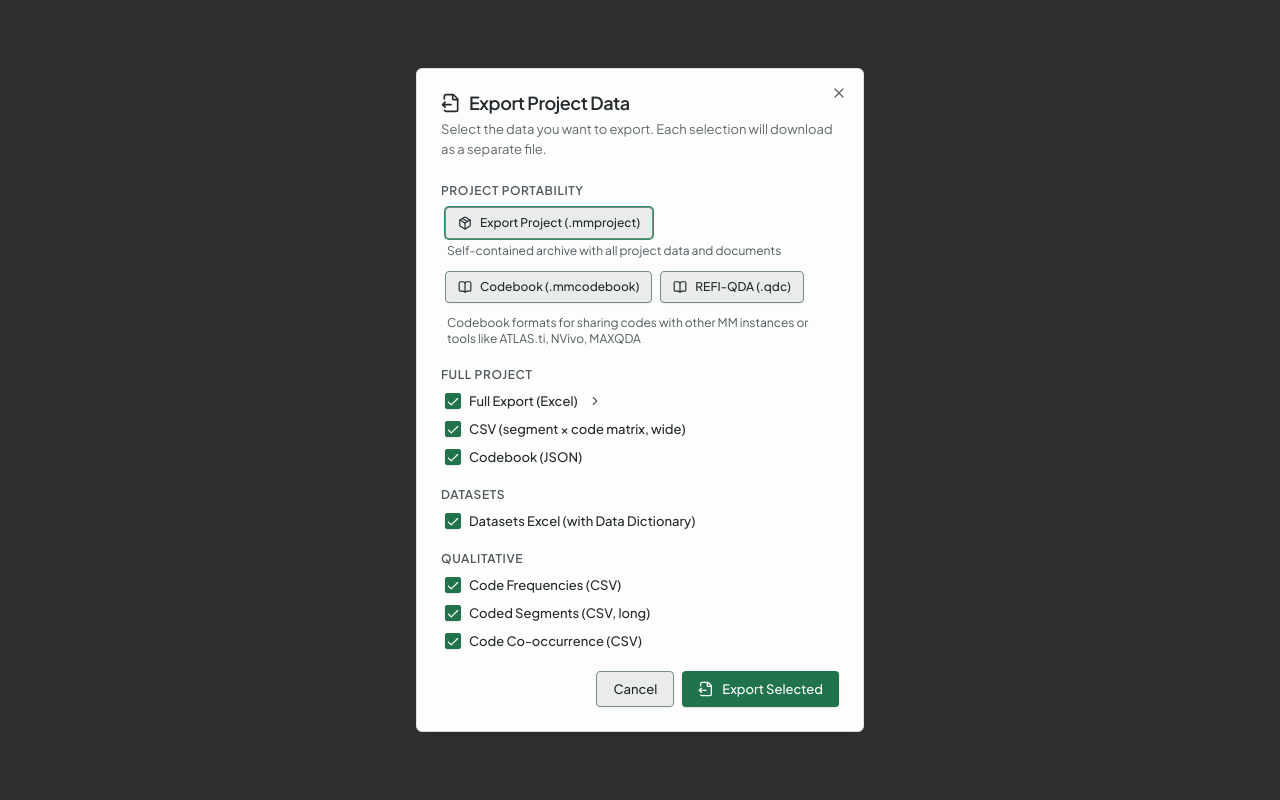
it: ExportDialog — the dismiss control during a long export › tells the researcher the download survives closing
The width and height of the screenshot is (1280, 800).
Click the button "Export Selected": click(761, 689) [682, 671, 839, 707]
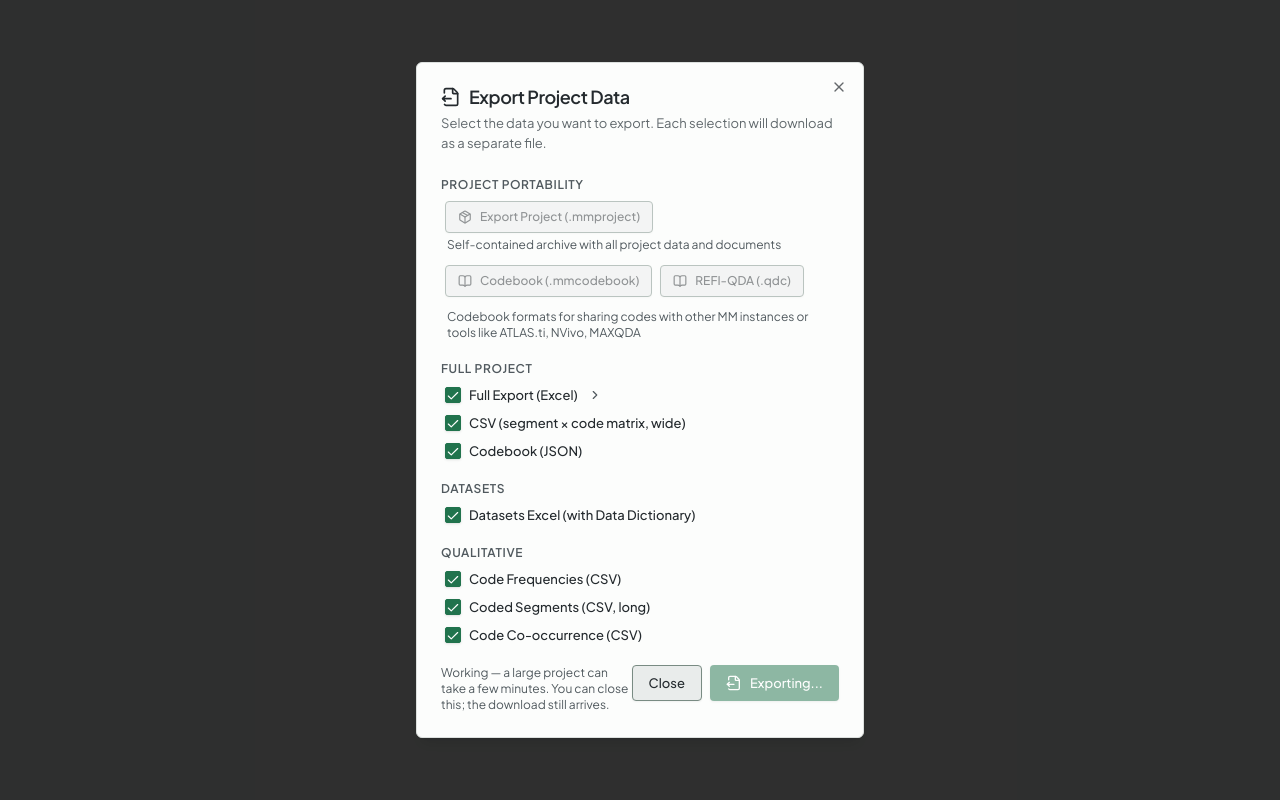
Result: the text "You can close this; the download still arrives" is shown at [441, 665, 628, 712]
